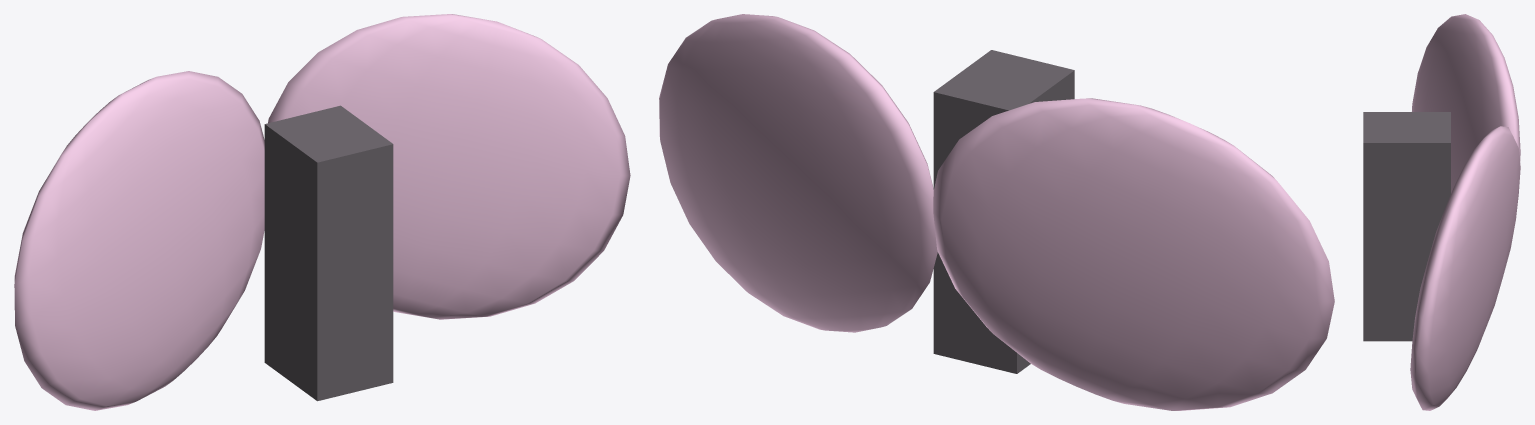
File: butterfly_wings.glb
The picture shows the model from 3 angles, left to right: view 1: azimuth 30°, elevation 25°; view 2: azimuth 150°, elevation 25°; view 3: azimuth 270°, elevation 25°; orthographic projection. The views are drawn at different scales.
Visible parts, largest first — view 1: Butterfly Wings; view 2: Butterfly Wings; view 3: Butterfly Wings.
Part boxes in pixels (bbox=[...]): Butterfly Wings: bbox=[14, 14, 630, 410]; Butterfly Wings: bbox=[659, 14, 1334, 410]; Butterfly Wings: bbox=[1363, 14, 1520, 410].
Bounding box in the file's own units: 0.8097 × 0.3674 × 0.2155.
